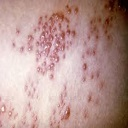Herpes Virus: (30, 13, 74, 78)
